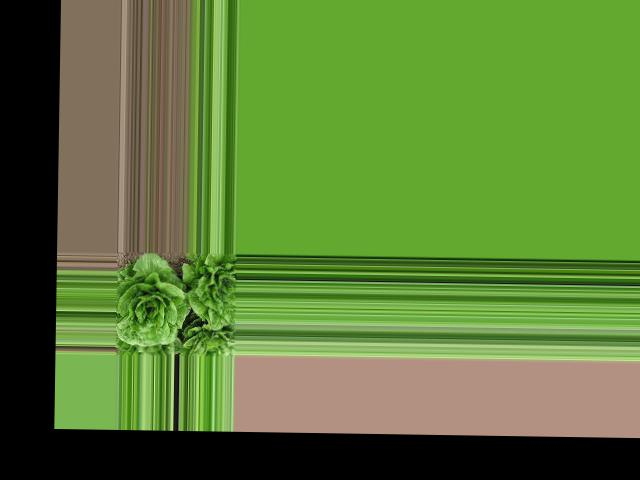lettuce: (187, 255, 237, 330)
